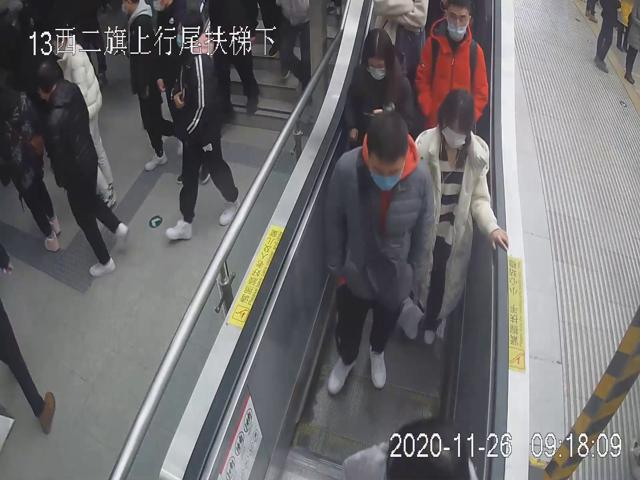person: (324, 106, 436, 399), (403, 88, 512, 348), (35, 47, 129, 279), (164, 9, 244, 242), (337, 23, 427, 144), (412, 0, 492, 130)
